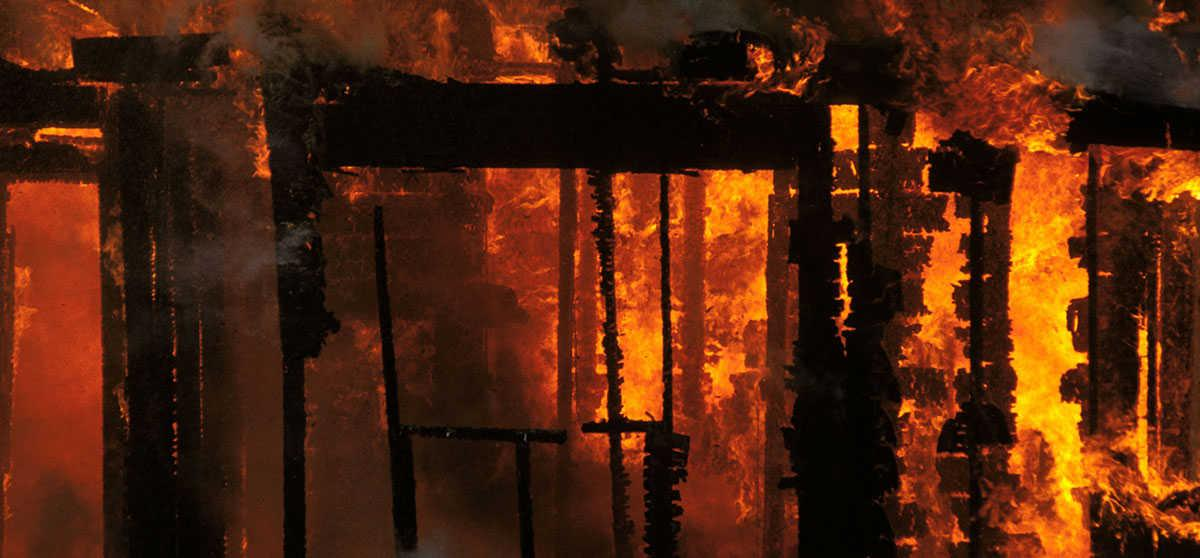Fire: (10, 3, 1193, 558)
